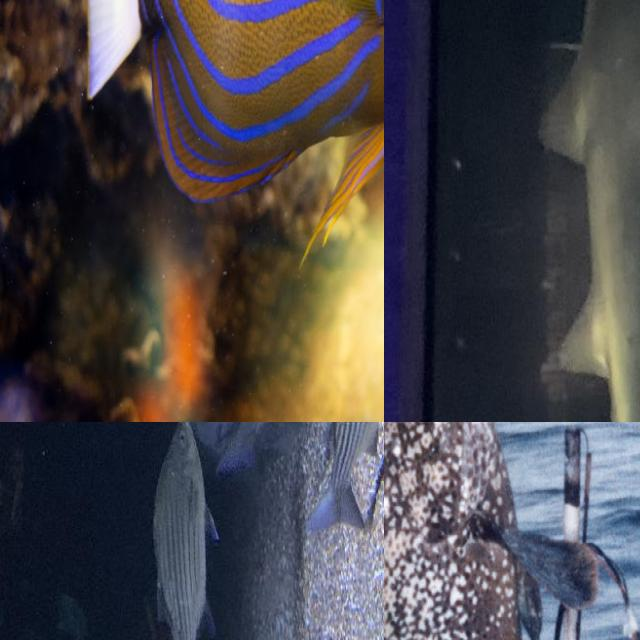fish: (0, 0, 384, 422), (532, 0, 640, 422), (384, 422, 579, 640)
